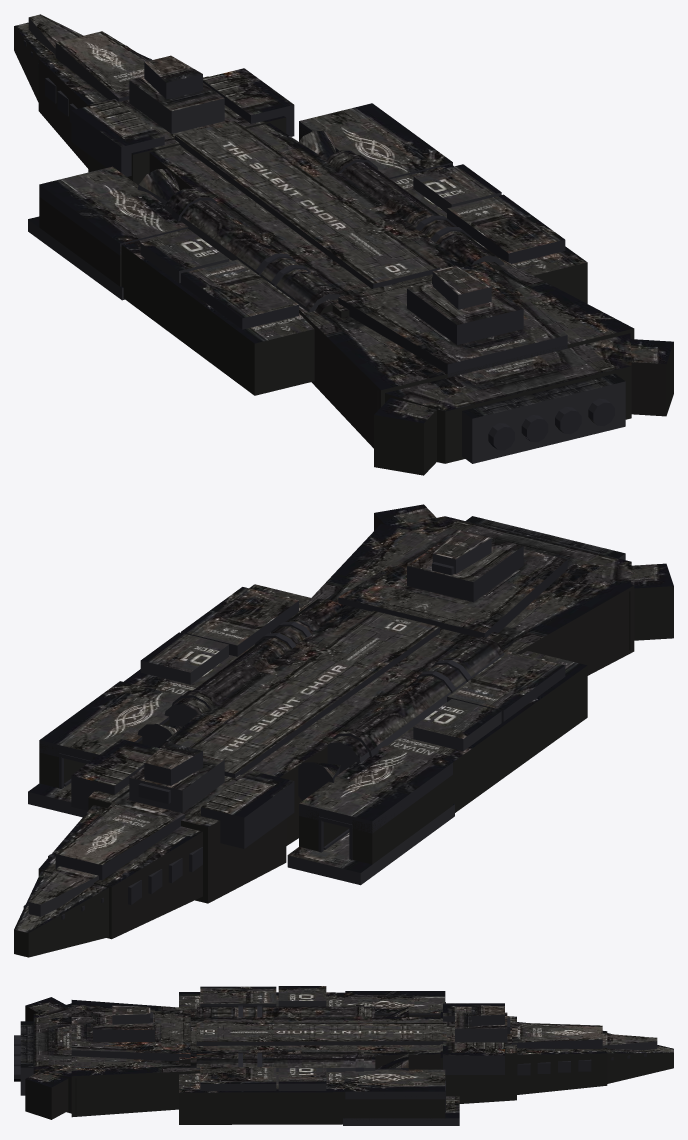
The model's file is choirship_wreck.glb.
3 views of the same model, one above another, from view 1: azimuth 30°, elevation 25°; view 2: azimuth 150°, elevation 25°; view 3: azimuth 270°, elevation 25° (orthographic). The views are drawn at different scales.
Visible parts, largest first — view 1: Choir_SpineFrame, Choir_SternMain, Choir_Sponson_Port, Choir_Hull_Main, Choir_SternCap, Choir_SternDeck, Choir_SternEngineBlock, Choir_BayRoof_Port, Choir_Nacelle_Port, Choir_BayRoof_Stbd, Choir_SponsonStep_Port, Choir_SponsonStep_Stbd (+21 smaller); view 2: Choir_SpineFrame, Choir_SternMain, Choir_Hull_Main, Choir_Sponson_Port, Choir_SternDeck, Choir_BayRoof_Port, Choir_ProwBody, Choir_Nacelle_Port, Choir_BayRoof_Stbd, Choir_BridgeBase, Choir_ProwPlate, Choir_Cheek_P (+24 smaller); view 3: Choir_SternMain, Choir_Sponson_Stbd, Choir_SpineFrame, Choir_Hull_Main, Choir_SternDeck, Choir_ProwBody, Choir_BayRoof_Stbd, Choir_SternCap, Choir_BridgeBase, Choir_Nacelle_Stbd, Choir_ProwPlate, Choir_BayRoof_Port (+20 smaller).
Boxes of the visible parts, x1,y1,x2,y2 form: Choir_SpineFrame: (175, 121, 439, 288); Choir_SternMain: (299, 255, 634, 448); Choir_Sponson_Port: (121, 228, 314, 395); Choir_Hull_Main: (149, 123, 500, 317); Choir_SternCap: (377, 333, 631, 463); Choir_SternDeck: (338, 261, 567, 377); Choir_SternEngineBlock: (462, 373, 625, 463); Choir_BayRoof_Port: (39, 166, 188, 255); Choir_Nacelle_Port: (164, 188, 341, 312); Choir_BayRoof_Stbd: (299, 103, 452, 178); Choir_SponsonStep_Port: (181, 259, 298, 329); Choir_SponsonStep_Stbd: (447, 194, 565, 263); Choir_SpineFrame: (190, 610, 439, 777); Choir_SternMain: (295, 523, 634, 675); Choir_Hull_Main: (158, 595, 500, 845); Choir_Sponson_Port: (387, 651, 587, 812); Choir_SternDeck: (338, 530, 567, 637); Choir_BayRoof_Port: (299, 746, 452, 833); Choir_ProwBody: (38, 805, 202, 939); Choir_Nacelle_Port: (326, 637, 503, 773); Choir_BayRoof_Stbd: (39, 681, 180, 763); Choir_BridgeBase: (88, 775, 286, 903); Choir_ProwPlate: (55, 798, 185, 880); Choir_Cheek_P: (201, 770, 294, 848); Choir_SternMain: (71, 1000, 200, 1117); Choir_Sponson_Stbd: (179, 1072, 345, 1124); Choir_SpineFrame: (196, 1022, 446, 1045); Choir_Hull_Main: (179, 1013, 440, 1069); Choir_SternDeck: (71, 1010, 190, 1061); Choir_ProwBody: (517, 1022, 607, 1094); Choir_BayRoof_Stbd: (345, 1069, 445, 1099); Choir_SternCap: (33, 1003, 76, 1114); Choir_BridgeBase: (440, 1011, 516, 1103); Choir_Nacelle_Stbd: (196, 1053, 375, 1071); Choir_ProwPlate: (512, 1022, 602, 1048); Choir_BayRoof_Port: (345, 991, 445, 1017).
Size of the model in its own units: 10 by 3.83 by 27.72.
11 materials, 2 textured.
